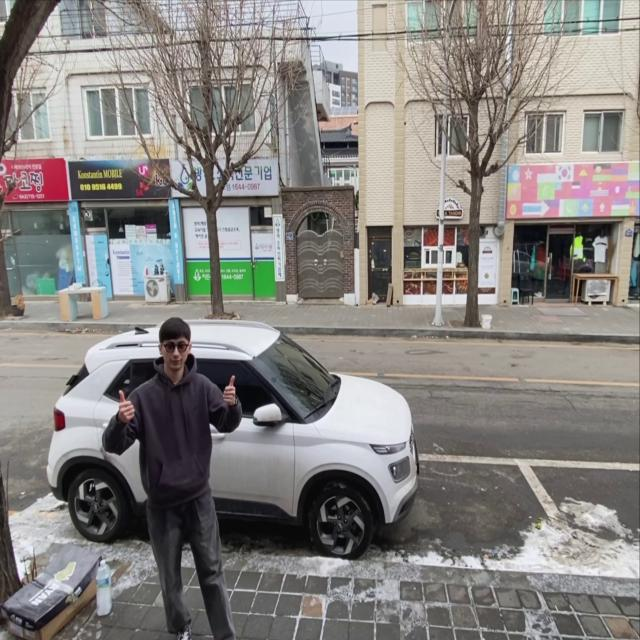bare_hand: (114, 386, 140, 423), (221, 373, 240, 404)
